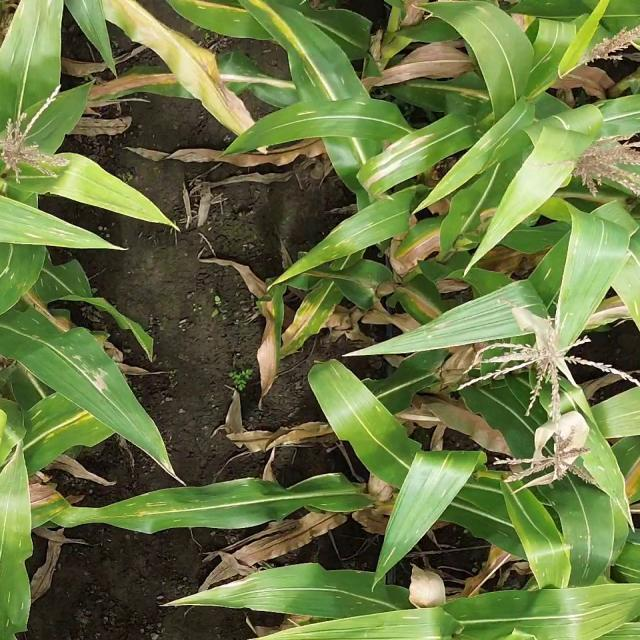gray-leaf-spot: (0, 194, 153, 392), (342, 433, 490, 591), (45, 455, 290, 535), (266, 190, 390, 348), (534, 223, 640, 348), (290, 47, 399, 149), (340, 120, 449, 207)
northern-leaf-blight: (77, 0, 269, 146), (80, 60, 280, 127)
southern-leaf-blight: (506, 516, 609, 593)
